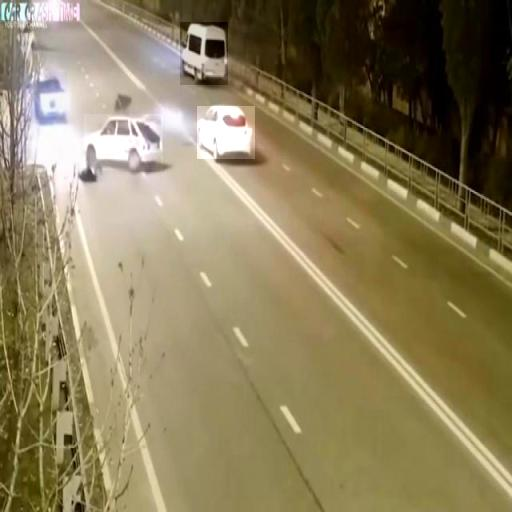小汽车: (84, 114, 163, 170), (197, 106, 255, 159), (180, 22, 228, 85), (37, 72, 67, 120)
